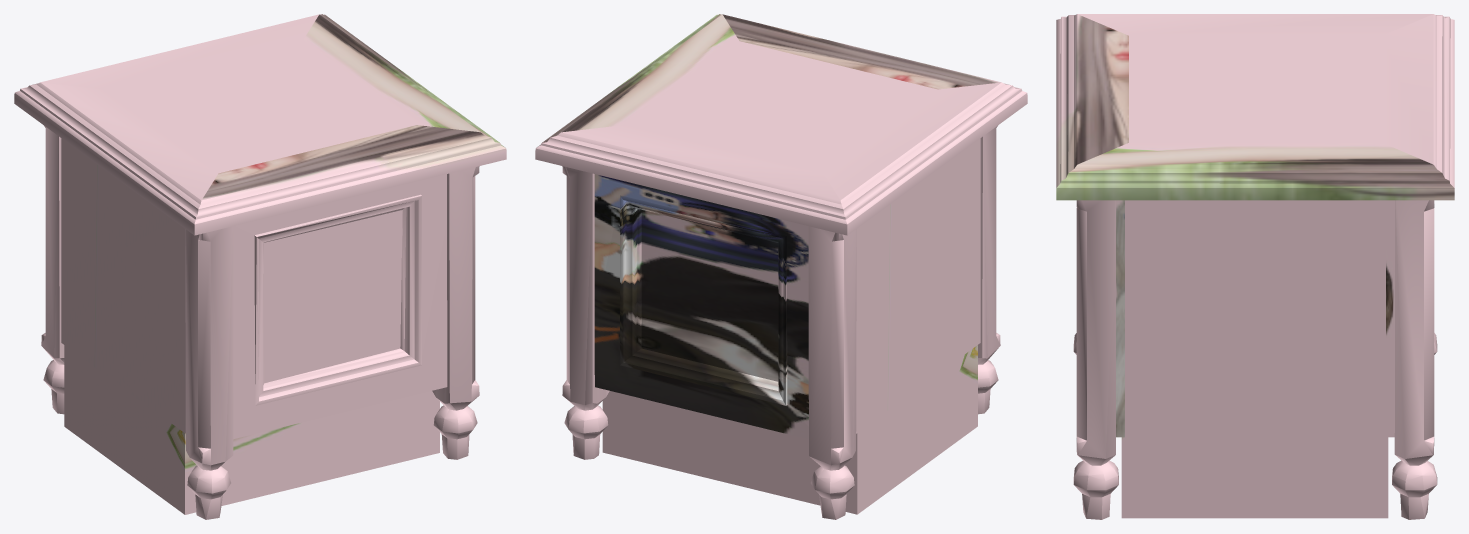
File: stand_2.fbx
3 renders of one model, left to right at view 1: azimuth 30°, elevation 25°; view 2: azimuth 150°, elevation 25°; view 3: azimuth 270°, elevation 25°, orthographic. The views are drawn at different scales.
Parts seen in each view (by area): view 1: Cube_2_2.002; view 2: Cube_2_2.002; view 3: Cube_2_2.002.
Part boxes in pixels (x1,y1,x2,y2): Cube_2_2.002: (14,14,506,519); Cube_2_2.002: (535,14,1027,519); Cube_2_2.002: (1056,14,1454,519).
Bounding box in the file's own units: 45.42 × 45.93 × 45.42.
